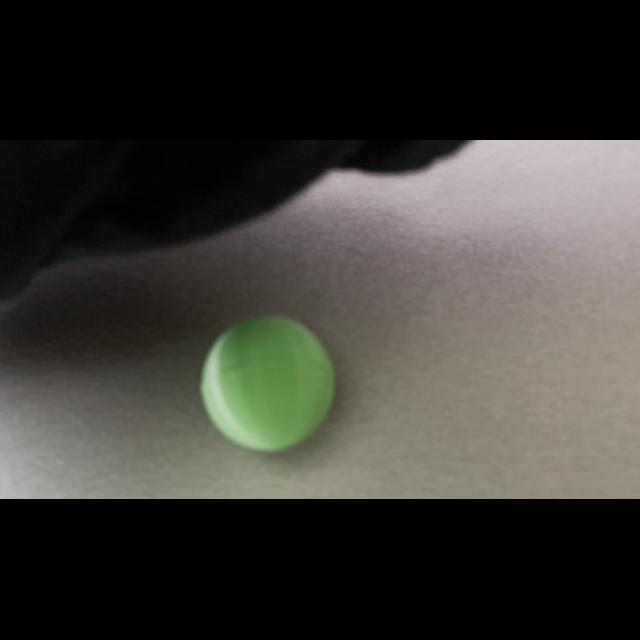objects: (192, 306, 342, 456)
